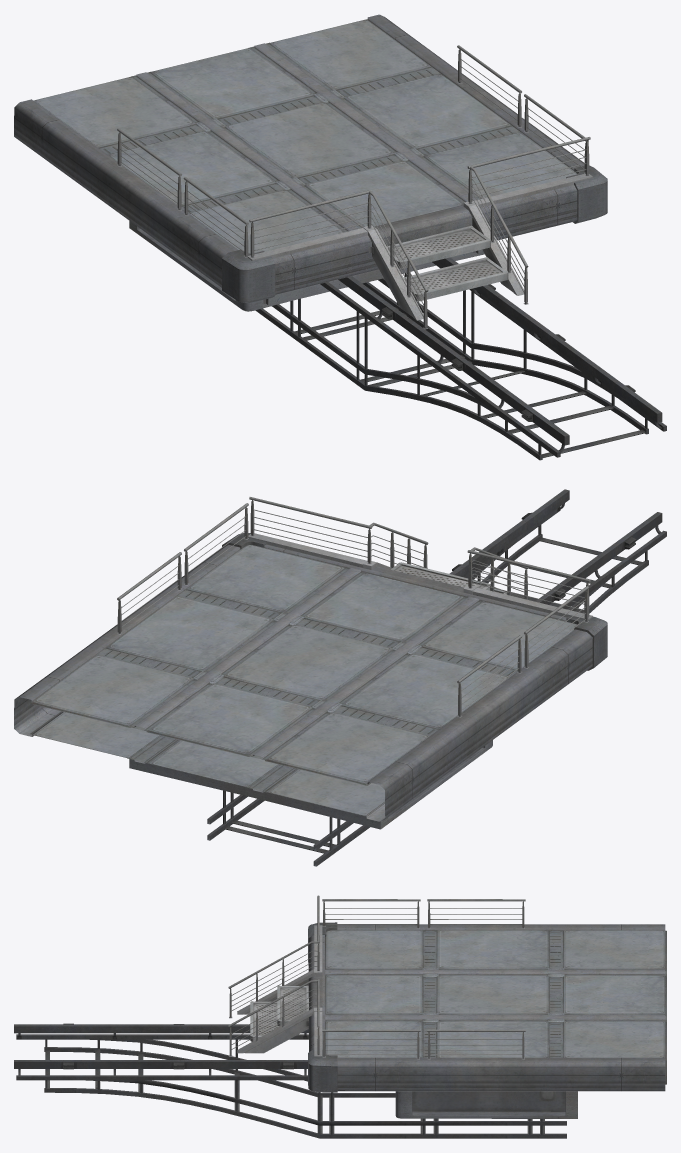
The model's file is sm23_025_shaftbridge01a.fbx.
3 views of the same model, one above another, from view 1: azimuth 30°, elevation 25°; view 2: azimuth 150°, elevation 25°; view 3: azimuth 270°, elevation 25° (orthographic). The views are drawn at different scales.
Parts seen in each view (by area): view 1: LOD_1_Group_0_Sub_1__sm23_025_ShaftBridge01A_A_Mat__Env_Alph, LOD_1_Group_0_Sub_2__sm23_025_ShaftBridge01A_B_Mat__Env_defa; view 2: LOD_1_Group_0_Sub_1__sm23_025_ShaftBridge01A_A_Mat__Env_Alph, LOD_1_Group_0_Sub_2__sm23_025_ShaftBridge01A_B_Mat__Env_defa; view 3: LOD_1_Group_0_Sub_1__sm23_025_ShaftBridge01A_A_Mat__Env_Alph, LOD_1_Group_0_Sub_2__sm23_025_ShaftBridge01A_B_Mat__Env_defa.
Part boxes in pixels (left/top/right/bottom): LOD_1_Group_0_Sub_1__sm23_025_ShaftBridge01A_A_Mat__Env_Alph: left=33, top=19, right=666, bottom=460; LOD_1_Group_0_Sub_2__sm23_025_ShaftBridge01A_B_Mat__Env_defa: left=14, top=14, right=607, bottom=311; LOD_1_Group_0_Sub_1__sm23_025_ShaftBridge01A_A_Mat__Env_Alph: left=30, top=489, right=666, bottom=866; LOD_1_Group_0_Sub_2__sm23_025_ShaftBridge01A_B_Mat__Env_defa: left=14, top=533, right=607, bottom=829; LOD_1_Group_0_Sub_1__sm23_025_ShaftBridge01A_A_Mat__Env_Alph: left=14, top=895, right=666, bottom=1138; LOD_1_Group_0_Sub_2__sm23_025_ShaftBridge01A_B_Mat__Env_defa: left=308, top=922, right=665, bottom=1118.
Size of the model in its own units: 8.02 by 4.11 by 15.49.
